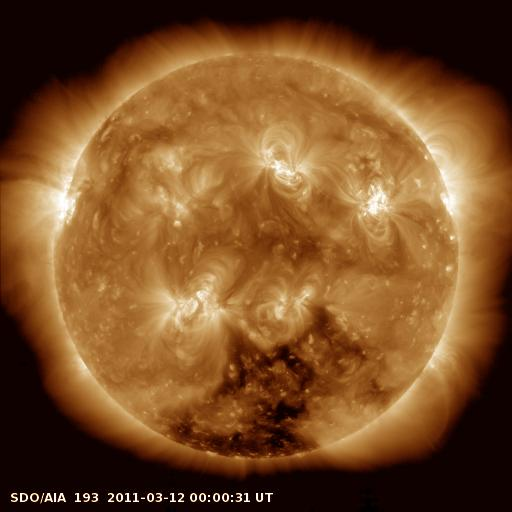coronal_hole: (165, 302, 378, 460)
